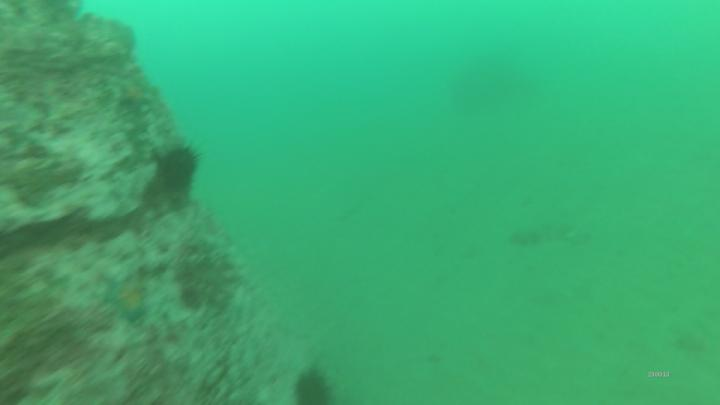echinus: (159, 147, 197, 187), (297, 373, 328, 404)
holothurian: (517, 222, 582, 247)
starfish: (103, 280, 152, 320), (120, 81, 149, 111)
